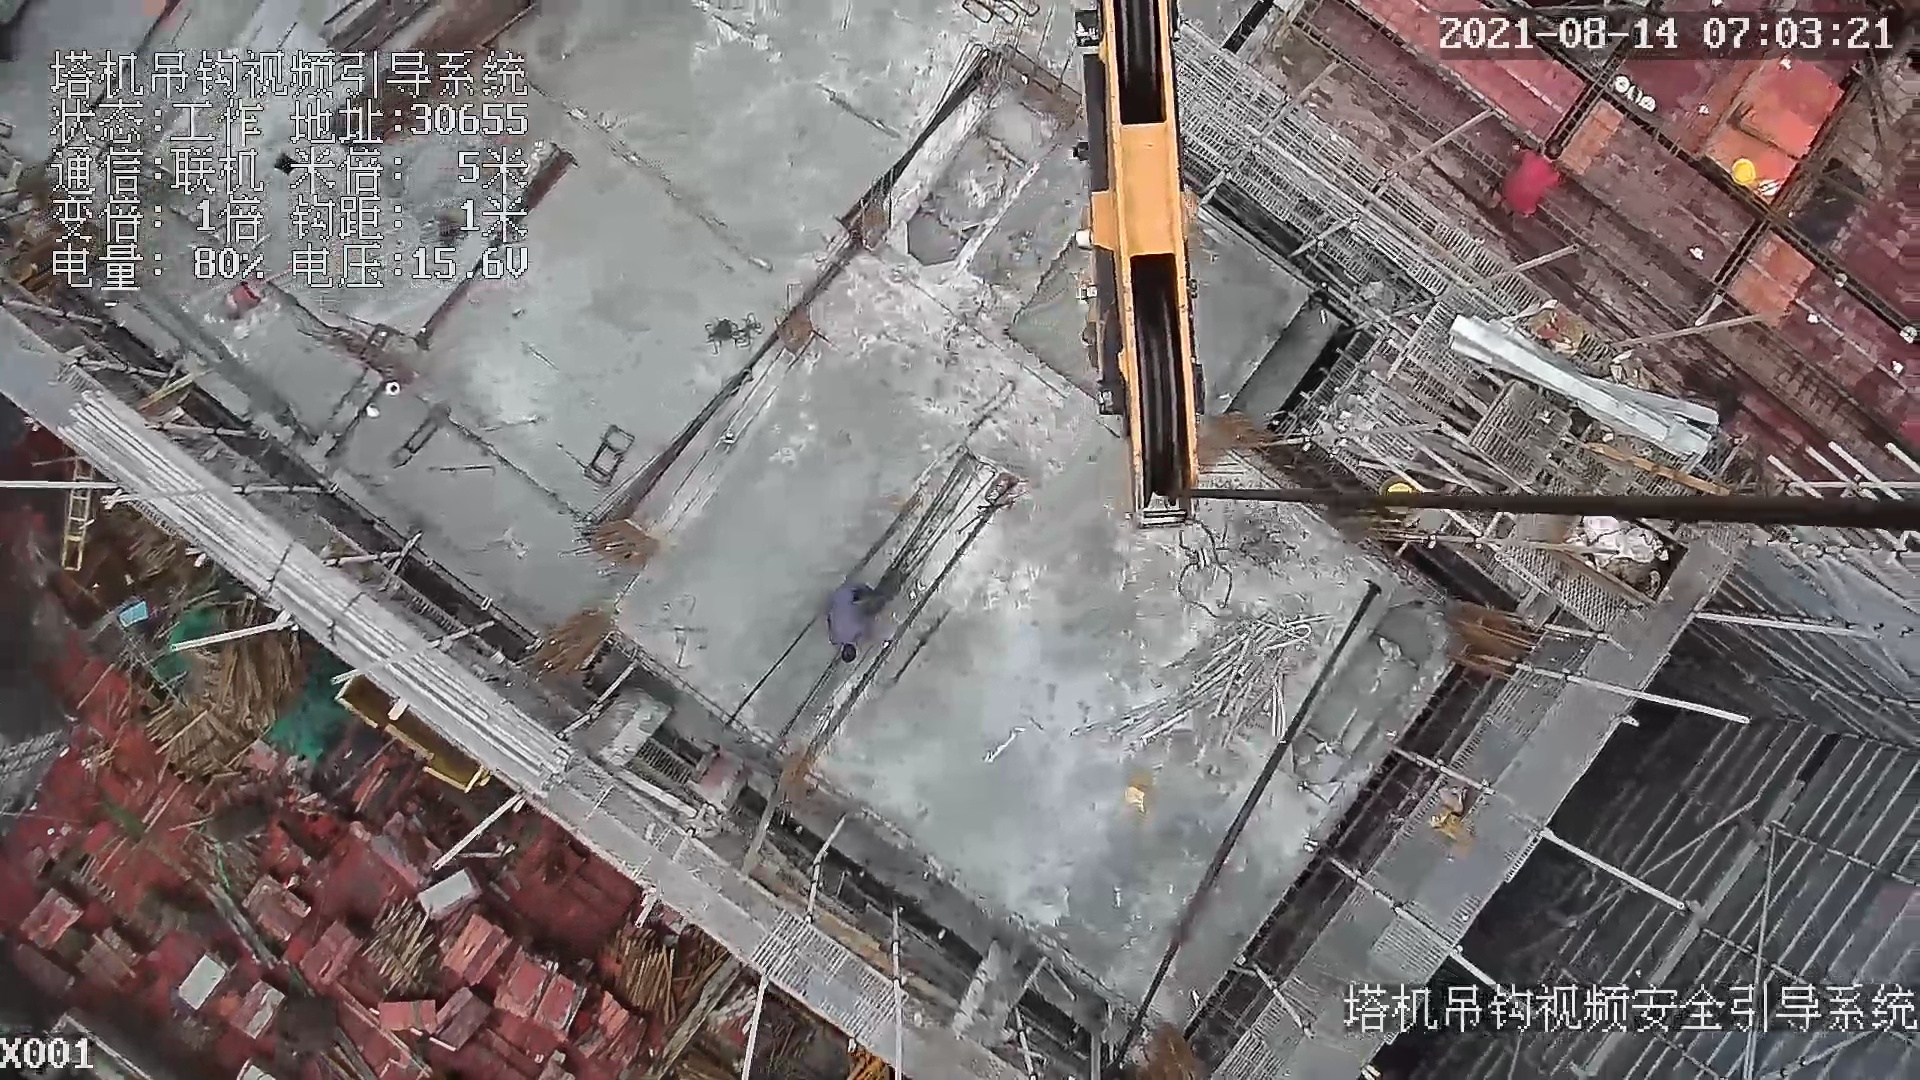helmet: (1726, 158, 1760, 189)
hook: (1076, 1, 1205, 535)
person: (1503, 137, 1565, 216), (824, 581, 879, 665)
